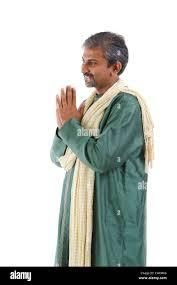Human: (53, 25, 153, 284)
